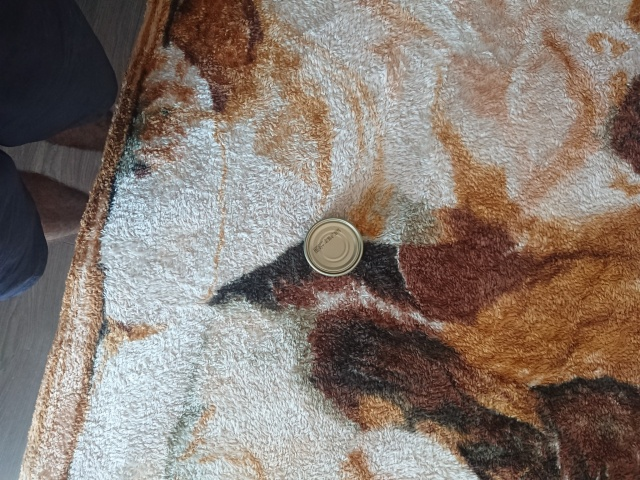Giana Tuna Salad Mexico 185g: (301, 215, 366, 280)
